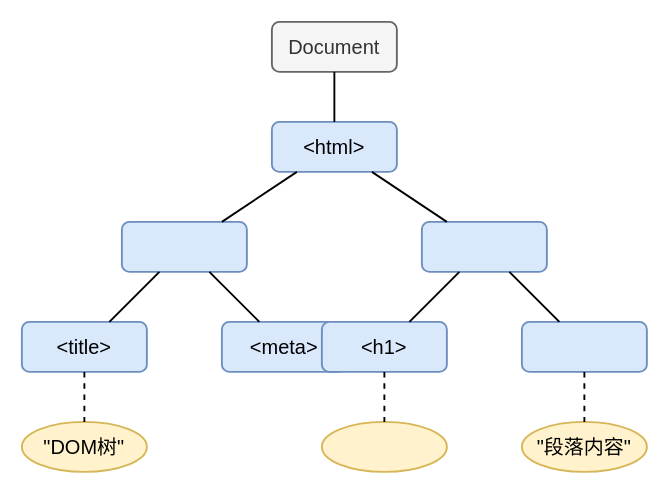
The diagram is 670 pixels wide and 495 high, and some of its shapes have lost their labels. Each missing label, with the centre of its shape:
"标题": pixel 383 446
<body>: pixel 483 246
<head>: pixel 183 246
<p>: pixel 583 346
